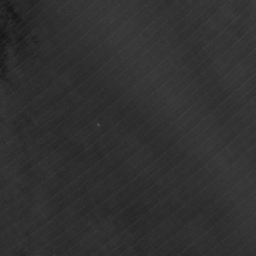Target: (94, 122, 100, 127)
